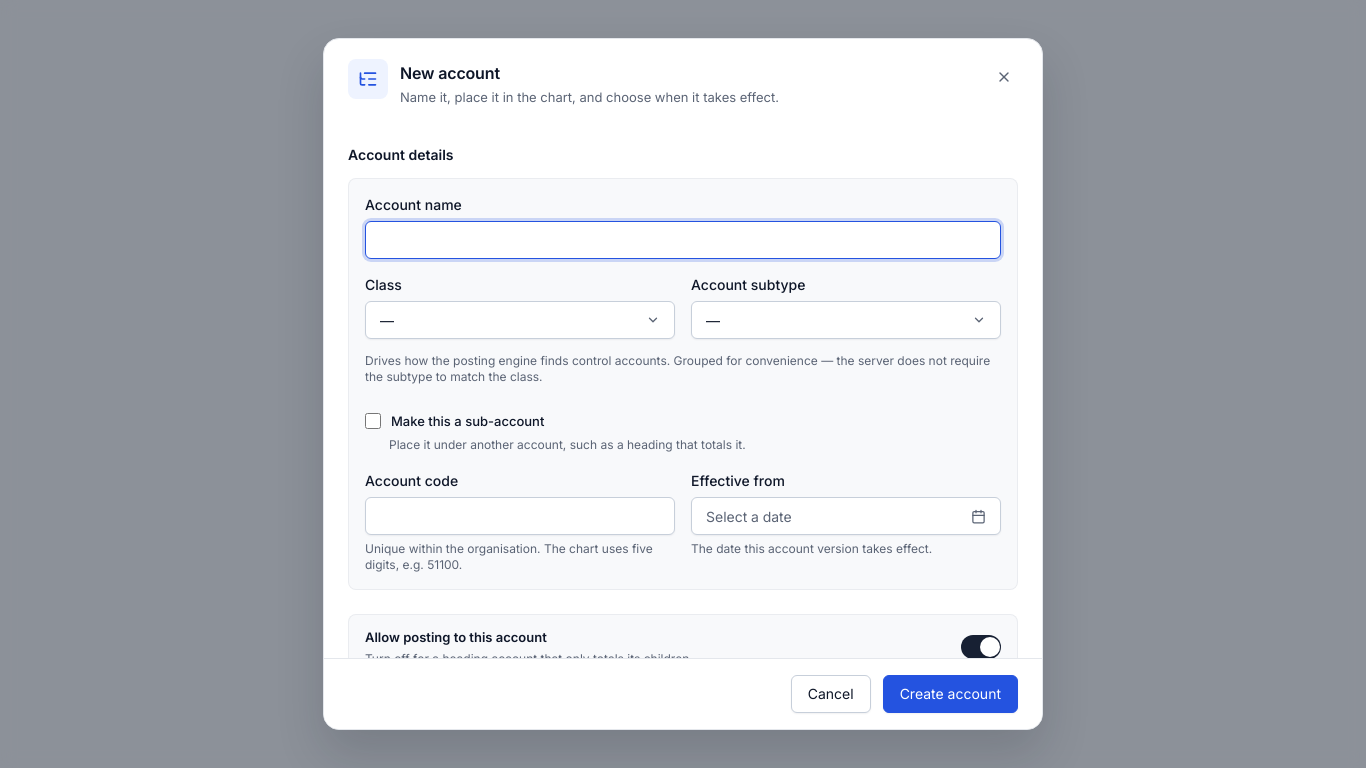
CreateAccountForm › lists every missing required field at once rather than one at a time
Click the button "Create account": click(950, 694) [883, 675, 1018, 713]
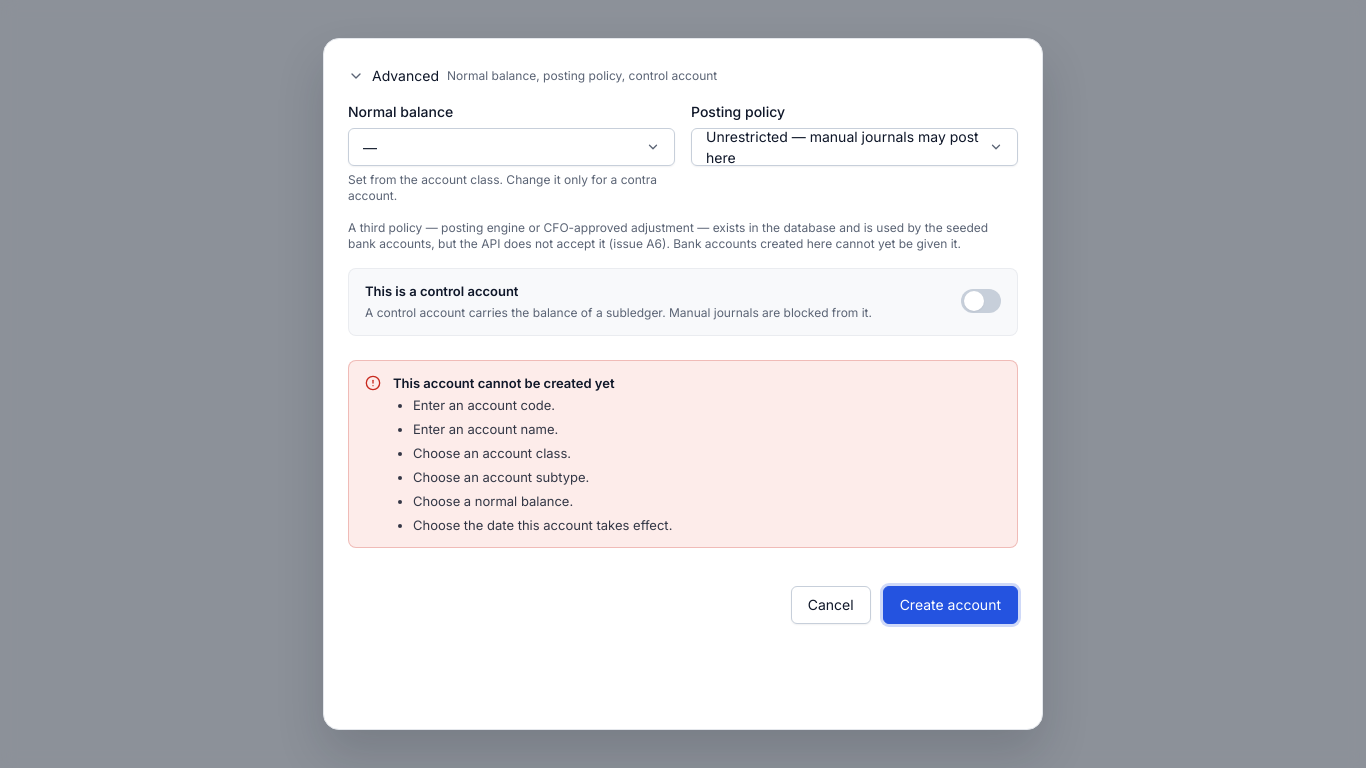
expect the text "This account cannot be created yet" is shown: met, box [393, 375, 614, 391]
expect the list item "Enter an account code." is shown: met, box [413, 397, 555, 413]
expect the list item "Choose the date this account takes effect." is shown: met, box [413, 517, 672, 533]
